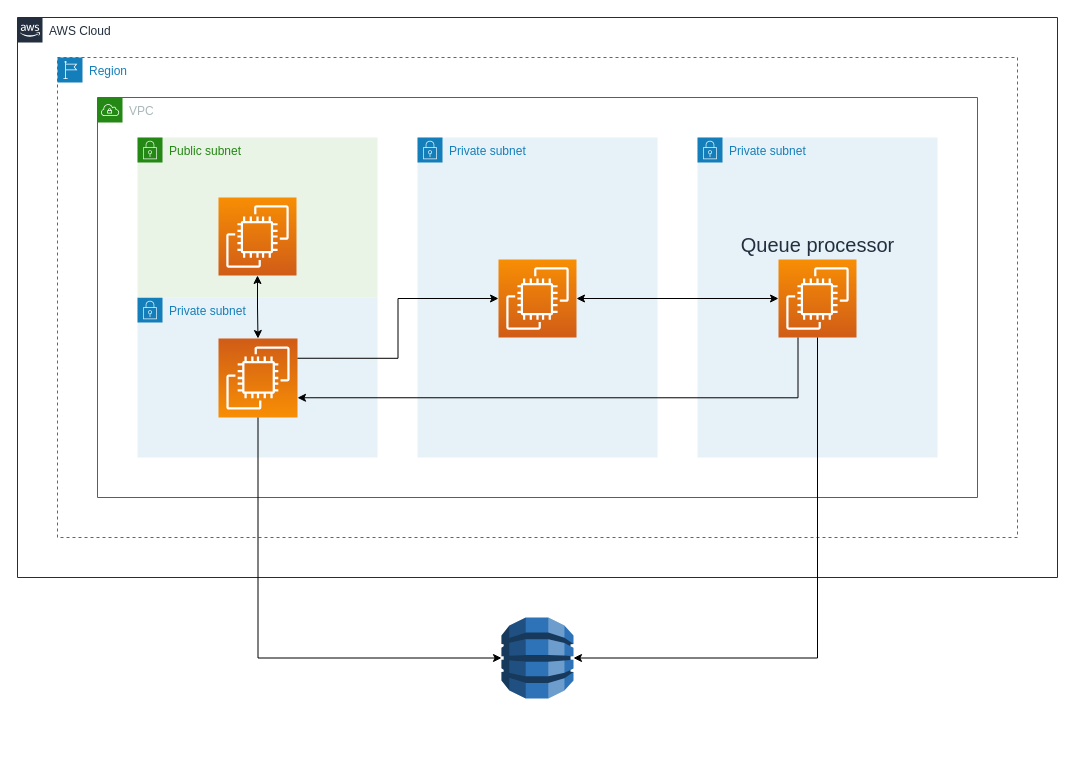
The diagram is 1075 pixels wide and 771 high, and some of its shapes have lost their labels. The shapes that lost their labels are listed below. From the top down, each one's centre as x and y in pixels, then its label:
At [257,236]: "Order sender".
At [537,298]: "Redis queue".
At [258,378]: "Order WSGI".
At [537,657]: "Orders table Products table".
